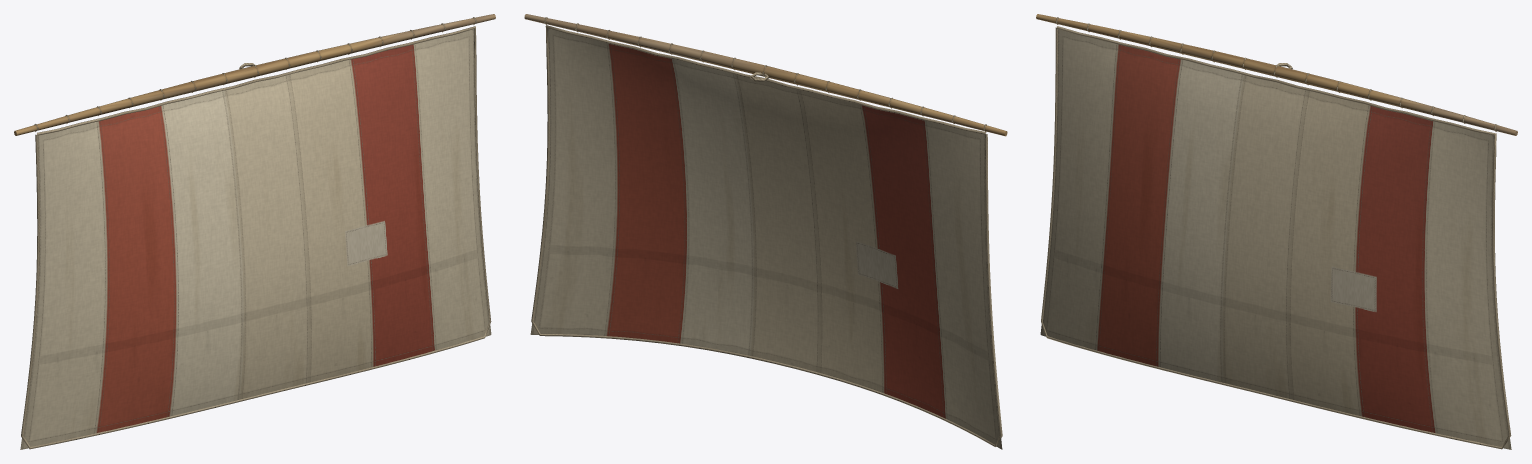
Rendered from DriftBoatSail_LOD1.gltf.
3 renders of one model, left to right at view 1: azimuth 30°, elevation 25°; view 2: azimuth 150°, elevation 25°; view 3: azimuth 330°, elevation 25°, orthographic.
Visible parts, largest first — view 1: DriftBoatSail; view 2: DriftBoatSail; view 3: DriftBoatSail.
Boxes of the visible parts, x1,y1,x2,y2 form: DriftBoatSail: (14,14,495,449); DriftBoatSail: (524,14,1007,449); DriftBoatSail: (1036,14,1517,449).
Size of the model in its own units: 4.7 by 3.07 by 0.5584.
1 material, 1 textured.
